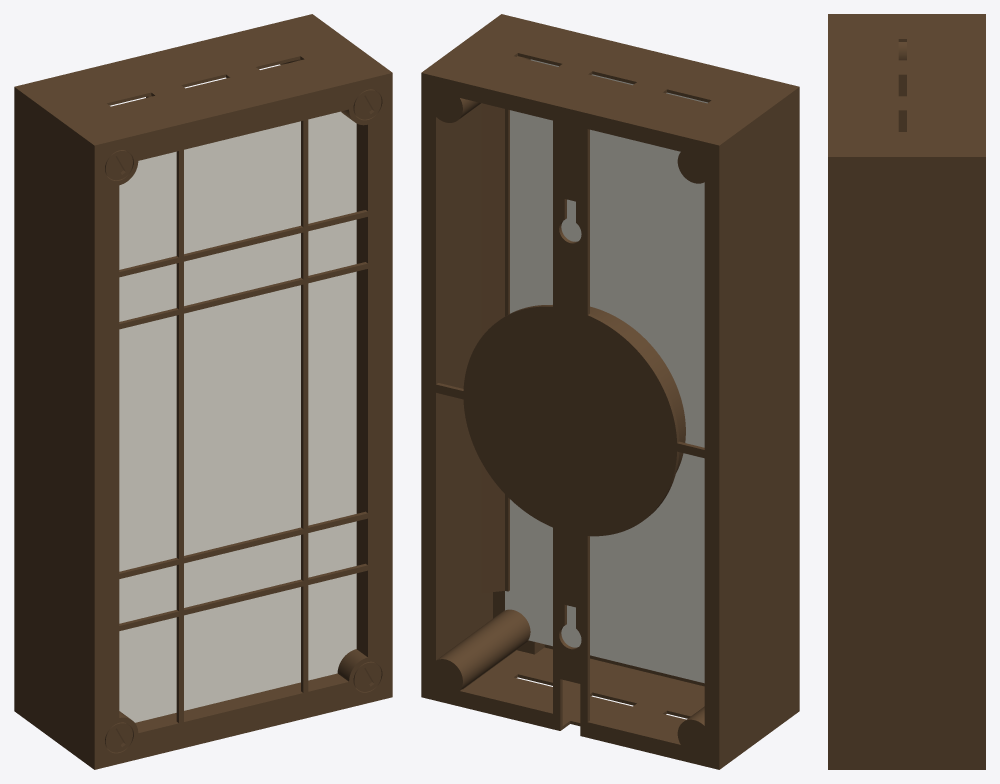
Rendered from shoji.glb.
3 views of the same model, side by side, from view 1: azimuth 30°, elevation 25°; view 2: azimuth 150°, elevation 25°; view 3: azimuth 270°, elevation 25° (orthographic).
Parts seen in each view (by area): view 1: 04_Cuerpo_Mural; view 2: 04_Cuerpo_Mural; view 3: 04_Cuerpo_Mural.
Boxes of the visible parts, <box> form: 04_Cuerpo_Mural: <box>14,14,392,769</box>; 04_Cuerpo_Mural: <box>421,14,799,769</box>; 04_Cuerpo_Mural: <box>828,14,985,769</box>.
Bounding box in the file's own units: 0.12 × 0.24 × 0.056.
